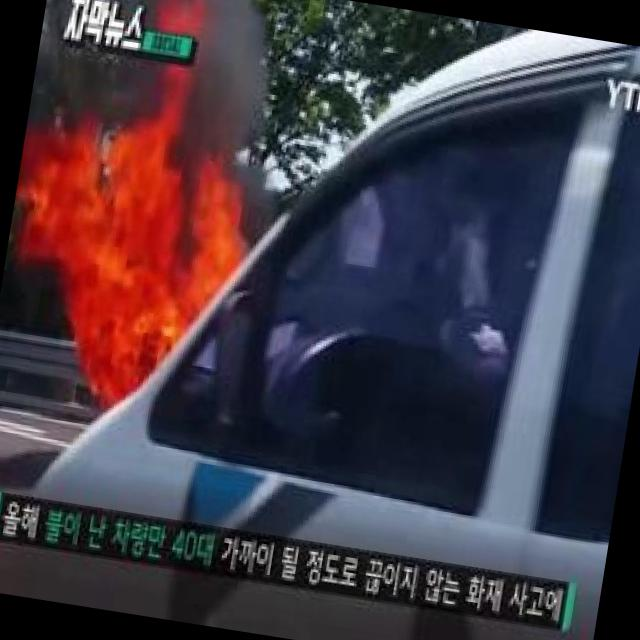Fire: (0, 109, 267, 431), (114, 52, 210, 133), (146, 0, 210, 34)
Smoke: (203, 0, 287, 142)
